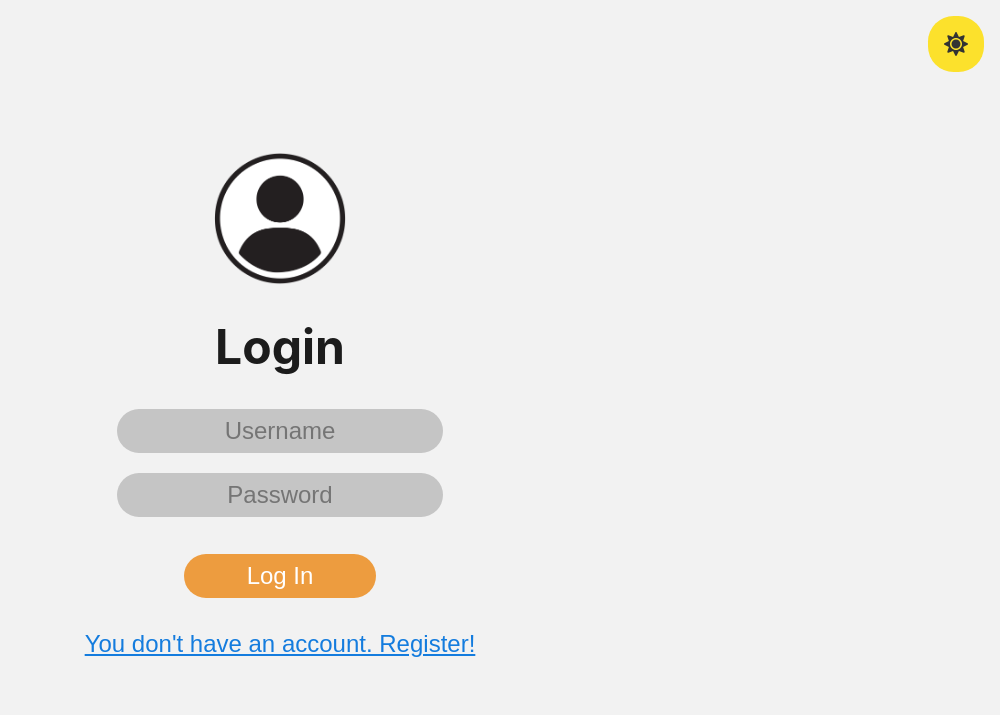
Login Component › shows error message when username or password is missing during registration
The image size is (1000, 715).
What coordinates should you click on to do the following:
click the button "You don't have an account. Register!"
I would click on:
 (280, 644)
Its box is [85, 630, 475, 658].
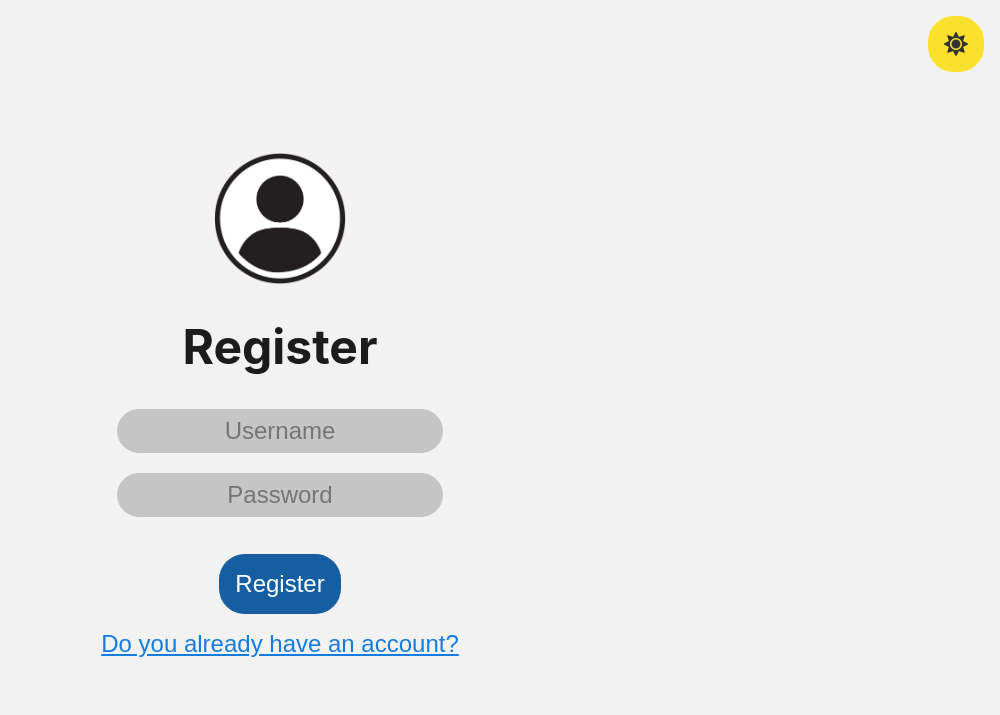
What coordinates should you click on to do the following:
click the button "Register"
I would click on:
 (280, 584)
Its box is [219, 554, 341, 614].
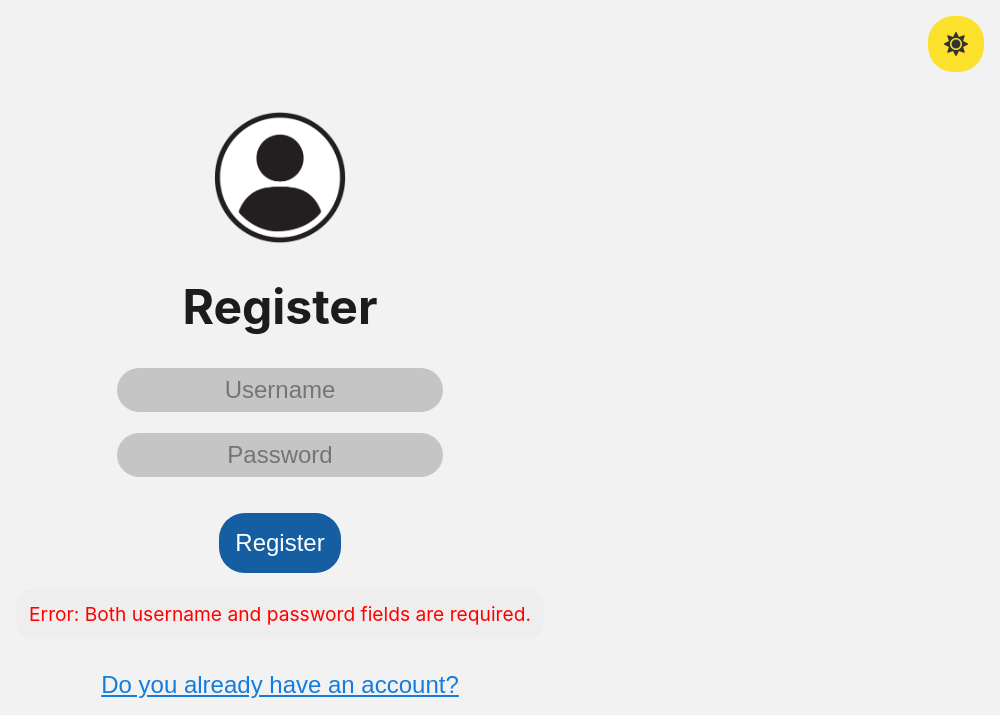
Expected: the text "Error: Both username and password fields are required." is shown, [16, 589, 544, 639]
